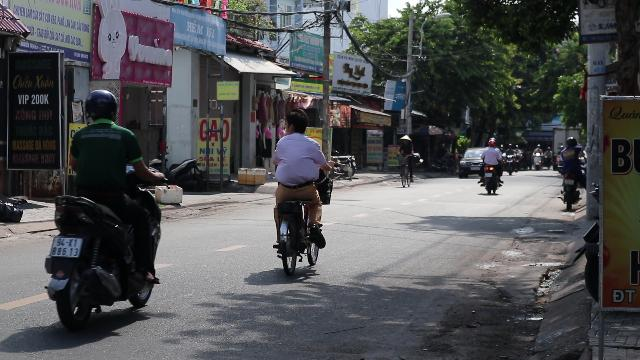helmet: (82, 88, 120, 124)
licenseplate: (50, 236, 82, 256)
motorcyclist: (44, 87, 166, 332), (266, 108, 334, 276)
nohelmet: (283, 109, 309, 136)
